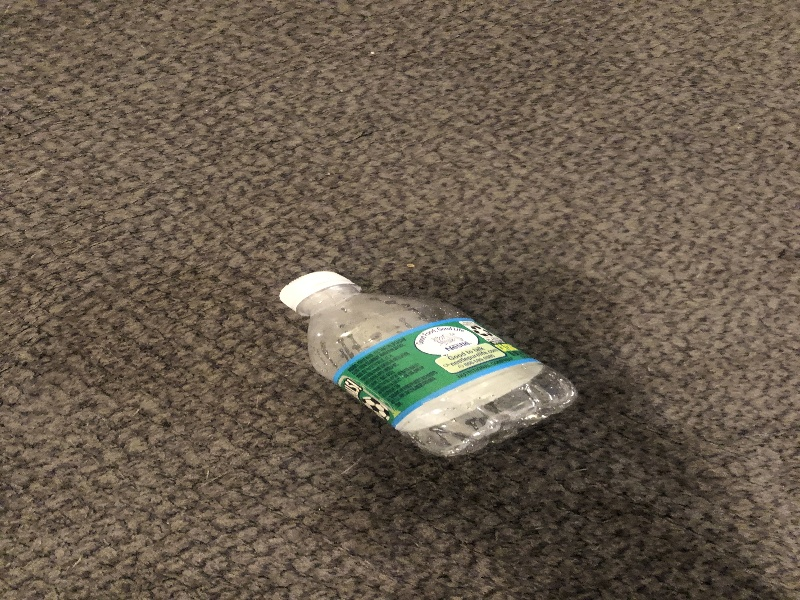plastic: (275, 265, 581, 463)
